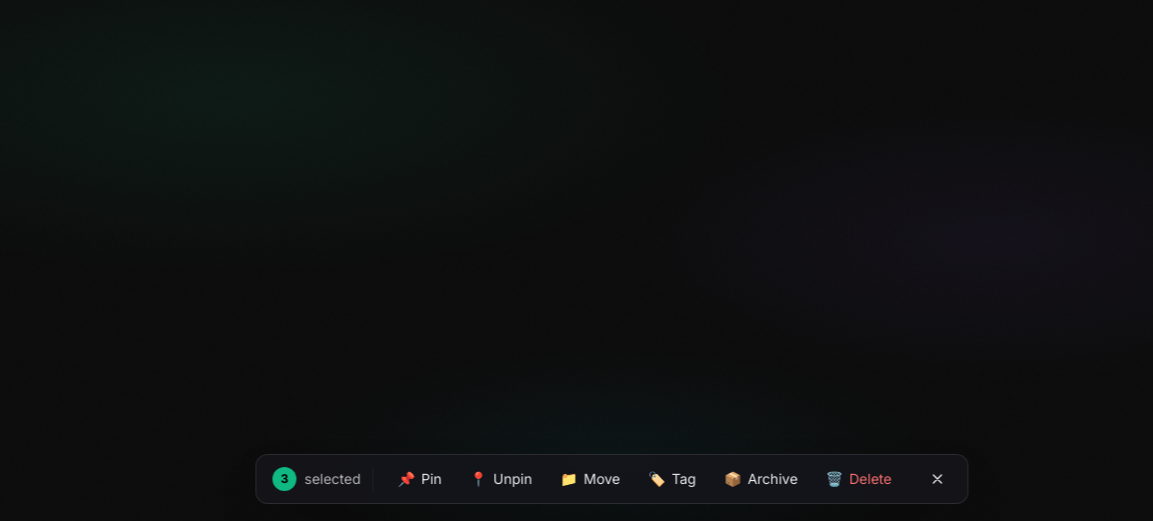
BulkActionBar › move to folder menu › should toggle move menu when Move button is clicked
Expected: the text "Root (No folder)" is not shown
# Click to open menu
Click the button titled "Move to folder" at (590, 479), box [548,463,632,495]
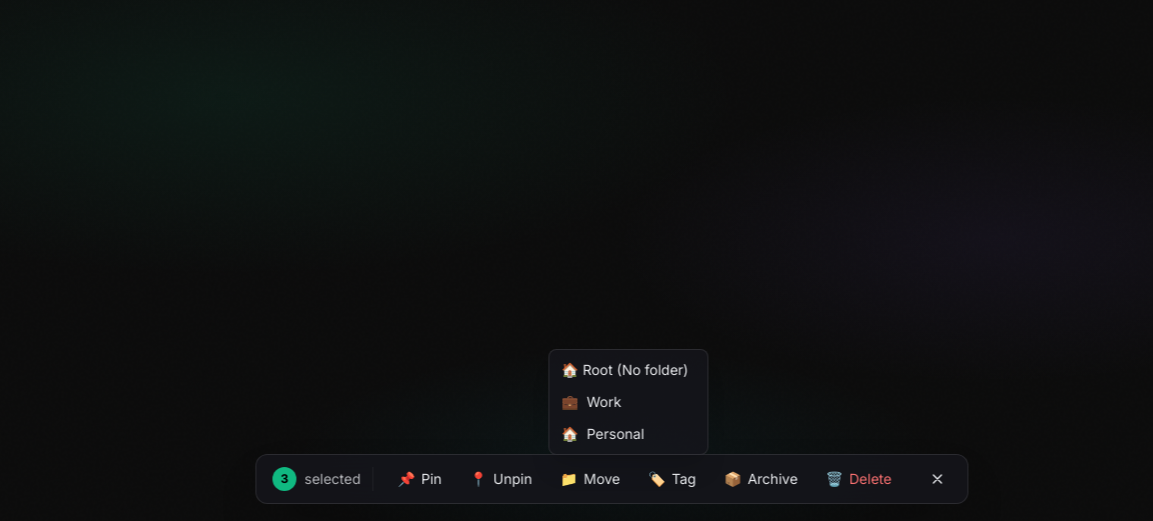
Now the button "🏠 Root (No folder)" is shown, box [549,354,707,386]
